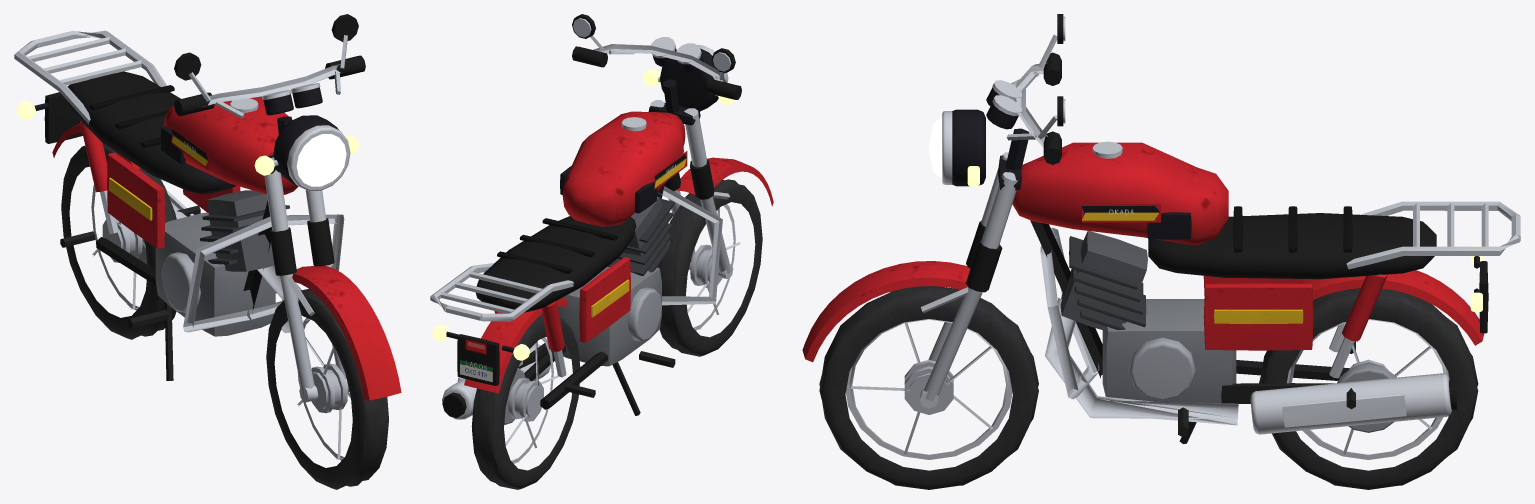
File: veh_okada.glb
3 views of the same model, side by side, from view 1: azimuth 30°, elevation 25°; view 2: azimuth 150°, elevation 25°; view 3: azimuth 270°, elevation 25° (orthographic). The views are drawn at different scales.
Visible parts, largest first — view 1: veh_okada_body, steering, wheel_F, wheel_R; view 2: veh_okada_body, steering, wheel_F, wheel_R; view 3: veh_okada_body, steering, wheel_F, wheel_R.
Part boxes in pixels (x1,y1,x2,y2): veh_okada_body: (14,30,344,380); steering: (174,14,401,402); wheel_F: (266,289,388,489); wheel_R: (61,143,176,339); veh_okada_body: (430,111,722,424); steering: (572,14,773,278); wheel_F: (657,179,762,356); wheel_R: (471,314,580,489); veh_okada_body: (1012,141,1520,443); steering: (802,14,1065,408); wheel_F: (819,286,1038,489); wheel_R: (1259,288,1478,489).
Bounding box in the file's own units: 0.3135 × 0.6564 × 0.9939.
Materials: 7 (3 with a texture image).
